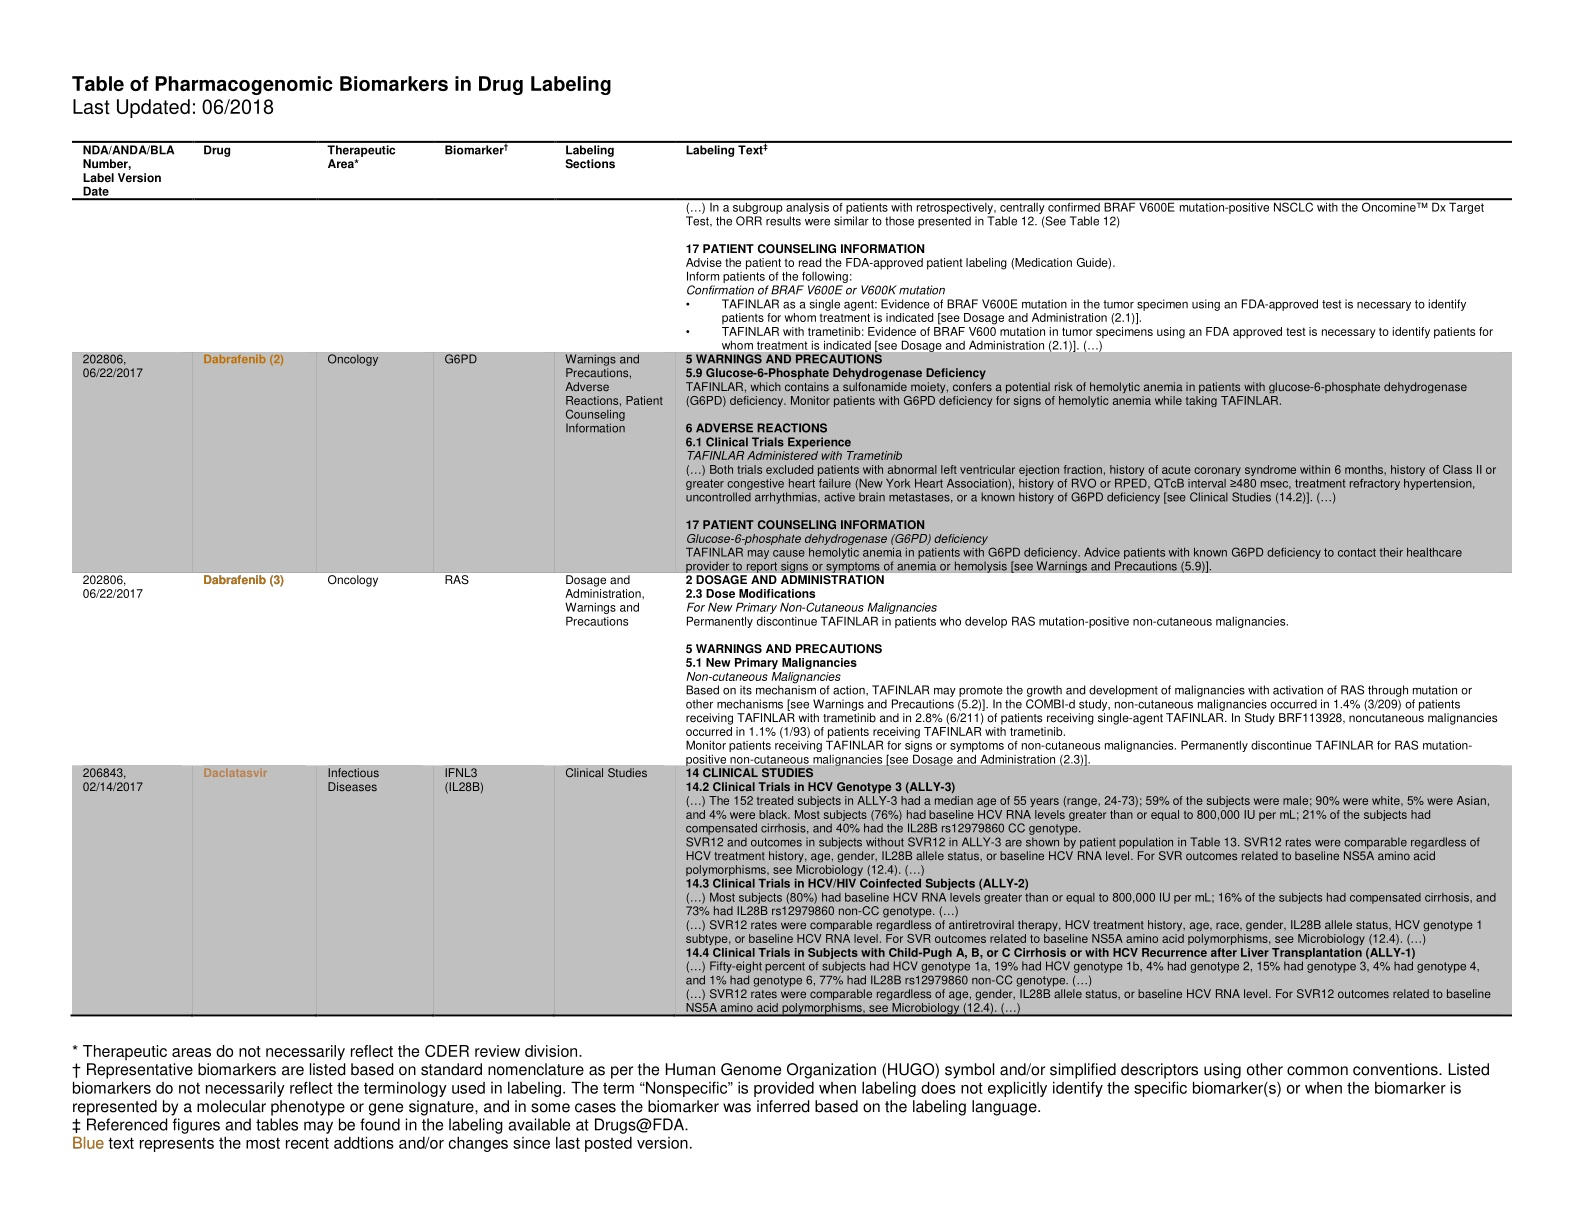partial_lined: (69, 139, 1513, 1018)
